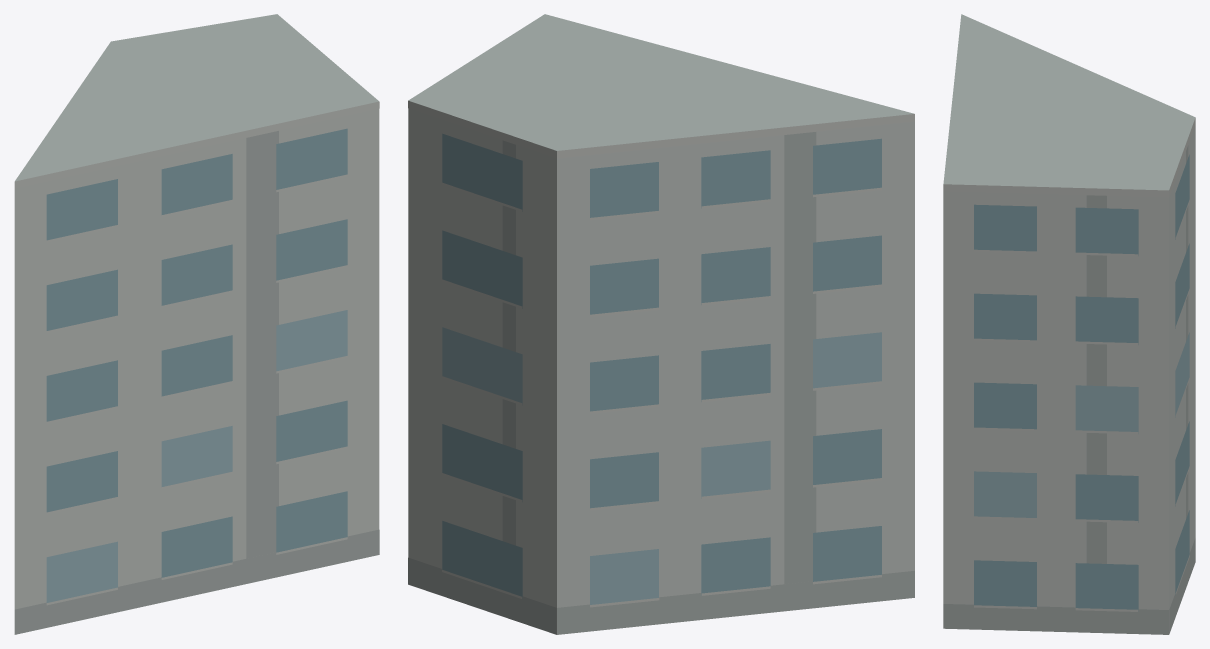
The model's file is survey-upis-32728703.glb.
The picture shows the model from 3 angles, left to right: view 1: azimuth 30°, elevation 25°; view 2: azimuth 150°, elevation 25°; view 3: azimuth 270°, elevation 25°; orthographic projection. The views are drawn at different scales.
Parts seen in each view (by area): view 1: survey-upis-32728703.tmp; view 2: survey-upis-32728703.tmp; view 3: survey-upis-32728703.tmp.
Boxes of the visible parts, x1=… form: survey-upis-32728703.tmp: x1=14, y1=14, x2=379, y2=634; survey-upis-32728703.tmp: x1=408, y1=14, x2=914, y2=634; survey-upis-32728703.tmp: x1=943, y1=14, x2=1195, y2=634.
Bounding box in the file's own units: 12.99 × 15.25 × 7.85.
